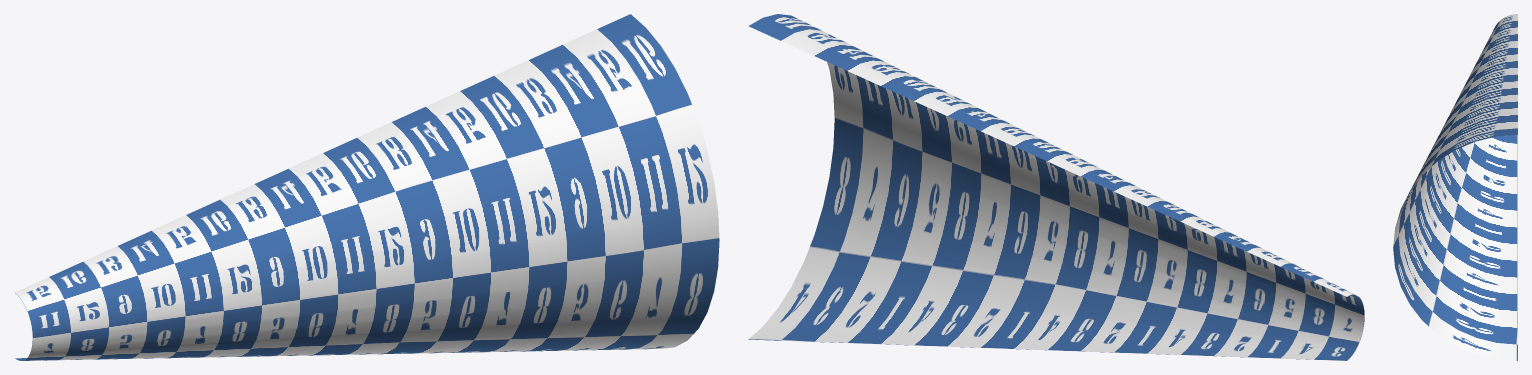
The model's file is Enmu_Spotlight1.fbx.
3 renders of one model, left to right at view 1: azimuth 30°, elevation 25°; view 2: azimuth 150°, elevation 25°; view 3: azimuth 270°, elevation 25°, orthographic. The views are drawn at different scales.
Visible parts, largest first — view 1: SM_e_Plc_P1011_Spotlight001; view 2: SM_e_Plc_P1011_Spotlight001; view 3: SM_e_Plc_P1011_Spotlight001.
Boxes of the visible parts, <box> form: SM_e_Plc_P1011_Spotlight001: <box>14,14,719,360</box>; SM_e_Plc_P1011_Spotlight001: <box>748,14,1364,360</box>; SM_e_Plc_P1011_Spotlight001: <box>1393,14,1517,360</box>.
Bounding box in the file's own units: 200 × 100 × 50.
